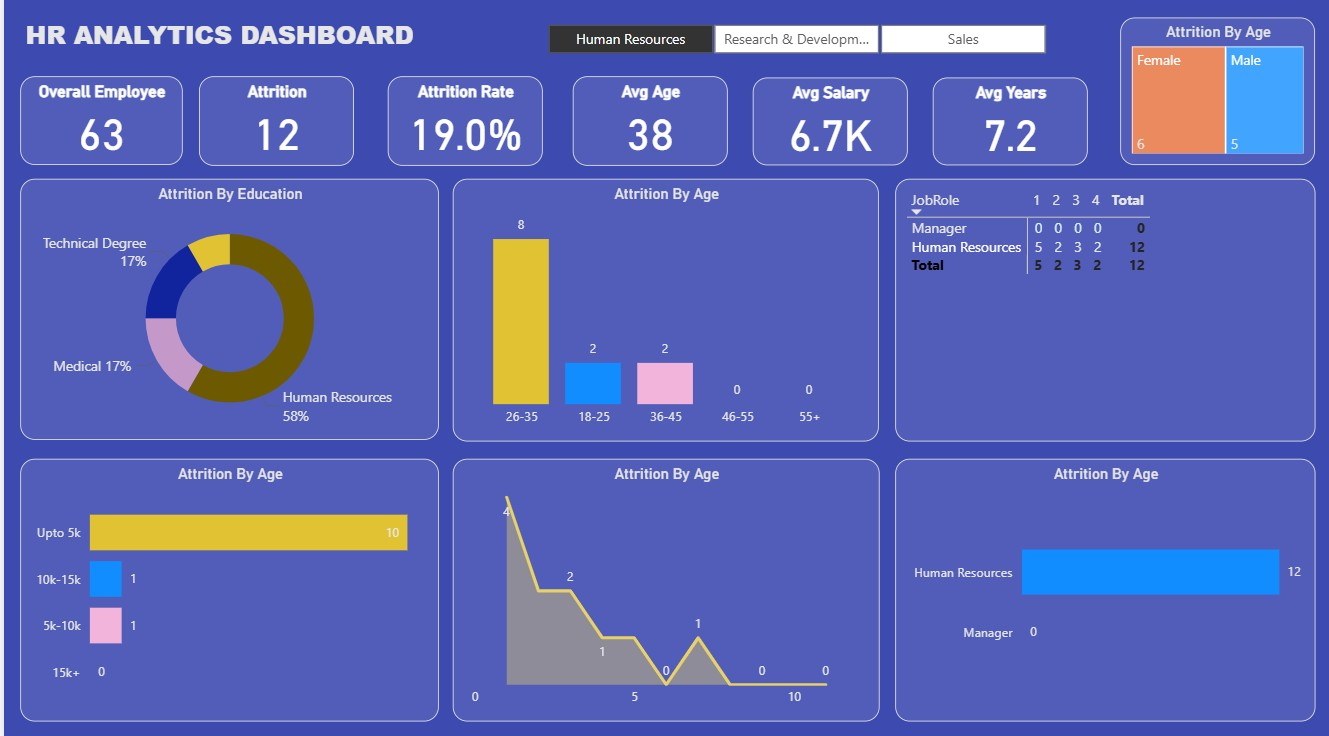

This screenshot's page, from the dashboard's own definition file:
{"tool":"powerbi","page":{"name":"Page 1","canvas":[1280,720],"ordinal":0},"visuals":[{"type":"card","title":"Overall Employee","fields":{"Values":["CountNonNull(HR_Analytics.EmpID)"]},"box":[15.7,78.4,156.8,85.7],"z":0},{"type":"card","title":"Attrition","fields":{"Values":["Sum(HR_Analytics.AttritionValue)"]},"box":[188,78.2,149.6,86.4],"z":1000},{"type":"card","title":"Attrition Rate","fields":{"Values":["HR_Analytics.AttritionRate"]},"box":[370.5,78.2,149.6,86.4],"z":2000},{"type":"card","title":"Avg Age","fields":{"Values":["Avg(HR_Analytics.Age)"]},"box":[548.9,78.2,149.6,86.4],"z":3000},{"type":"card","title":"Avg Salary","fields":{"Values":["Avg(HR_Analytics.MonthlyIncome)"]},"box":[723.2,79.6,149.6,85.1],"z":4000},{"type":"card","title":"Avg Years","fields":{"Values":["Avg(HR_Analytics.YearsAtCompany)"]},"box":[896.1,79.6,149.6,85.1],"z":5000},{"type":"donutChart","title":"Attrition By Education","fields":{"Category":["HR_Analytics.EducationField"],"Y":["Sum(HR_Analytics.AttritionValue)"]},"box":[15.7,177.3,404.2,252.1],"z":6000},{"type":"columnChart","title":"Attrition By Age","fields":{"Category":["HR_Analytics.AgeGroup"],"Y":["Sum(HR_Analytics.AttritionValue)"]},"box":[433.1,177.3,411.4,253.4],"z":7000},{"type":"pivotTable","fields":{"Rows":["HR_Analytics.JobRole"],"Columns":["HR_Analytics.JobSatisfaction"],"Values":["Sum(HR_Analytics.AttritionValue)"]},"box":[860.2,177.3,405.4,253.4],"z":8000},{"type":"barChart","title":"Attrition By Age","fields":{"Category":["HR_Analytics.SalarySlab"],"Y":["Sum(HR_Analytics.AttritionValue)"]},"box":[15.7,447.6,404.2,253.4],"z":9000},{"type":"barChart","title":"Attrition By Age","fields":{"Category":["HR_Analytics.JobRole"],"Y":["Sum(HR_Analytics.AttritionValue)"]},"box":[860.2,447.6,405.4,253.4],"z":10000},{"type":"areaChart","title":"Attrition By Age","fields":{"Category":["HR_Analytics.YearsAtCompany"],"Y":["Sum(HR_Analytics.AttritionValue)"]},"box":[433.6,447.3,411.7,253.9],"z":11000},{"type":"treemap","title":"Attrition By Age","fields":{"Group":["HR_Analytics.Gender"],"Values":["Sum(HR_Analytics.AttritionValue)"]},"box":[1077.2,22,188,142.7],"z":12000},{"type":"slicer","fields":{"Values":["HR_Analytics.Department"]},"box":[499.5,21.7,529.6,41],"z":13000},{"type":"textbox","box":[15.7,15.7,395.7,47.1],"z":14000}]}

Visuals, with their boxes in screenshot pixels (x1, y1, x2, y2), scaled from the page's 1280x720 canvas onto the 1329x736 screenshot:
"Overall Employee" card: {"x1": 16, "y1": 80, "x2": 179, "y2": 168}
"Attrition" card: {"x1": 195, "y1": 80, "x2": 351, "y2": 168}
"Attrition Rate" card: {"x1": 385, "y1": 80, "x2": 540, "y2": 168}
"Avg Age" card: {"x1": 570, "y1": 80, "x2": 725, "y2": 168}
"Avg Salary" card: {"x1": 751, "y1": 81, "x2": 906, "y2": 168}
"Avg Years" card: {"x1": 930, "y1": 81, "x2": 1086, "y2": 168}
"Attrition By Education" donutChart: {"x1": 16, "y1": 181, "x2": 436, "y2": 439}
"Attrition By Age" columnChart: {"x1": 450, "y1": 181, "x2": 877, "y2": 440}
pivotTable - HR_Analytics.JobRole x HR_Analytics.JobSatisfaction: {"x1": 893, "y1": 181, "x2": 1314, "y2": 440}
"Attrition By Age" barChart: {"x1": 16, "y1": 458, "x2": 436, "y2": 717}
"Attrition By Age" barChart: {"x1": 893, "y1": 458, "x2": 1314, "y2": 717}
"Attrition By Age" areaChart: {"x1": 450, "y1": 457, "x2": 878, "y2": 717}
"Attrition By Age" treemap: {"x1": 1118, "y1": 22, "x2": 1314, "y2": 168}
slicer - HR_Analytics.Department: {"x1": 519, "y1": 22, "x2": 1068, "y2": 64}
textbox: {"x1": 16, "y1": 16, "x2": 427, "y2": 64}
